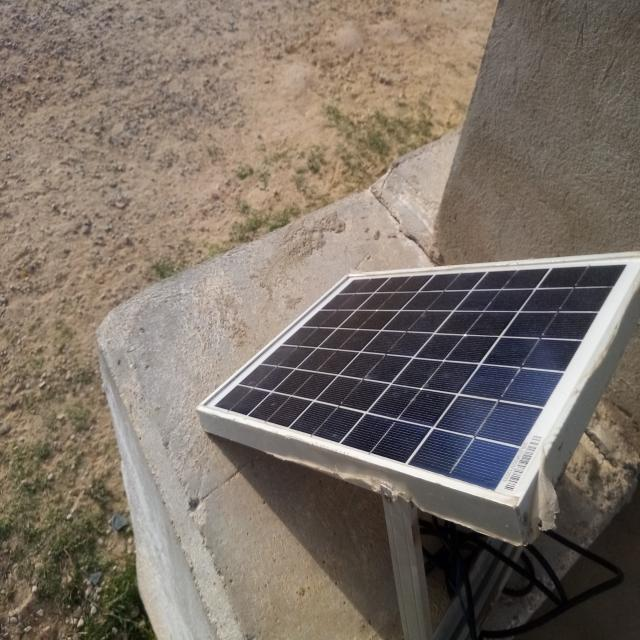no faulty: (202, 254, 640, 507)
